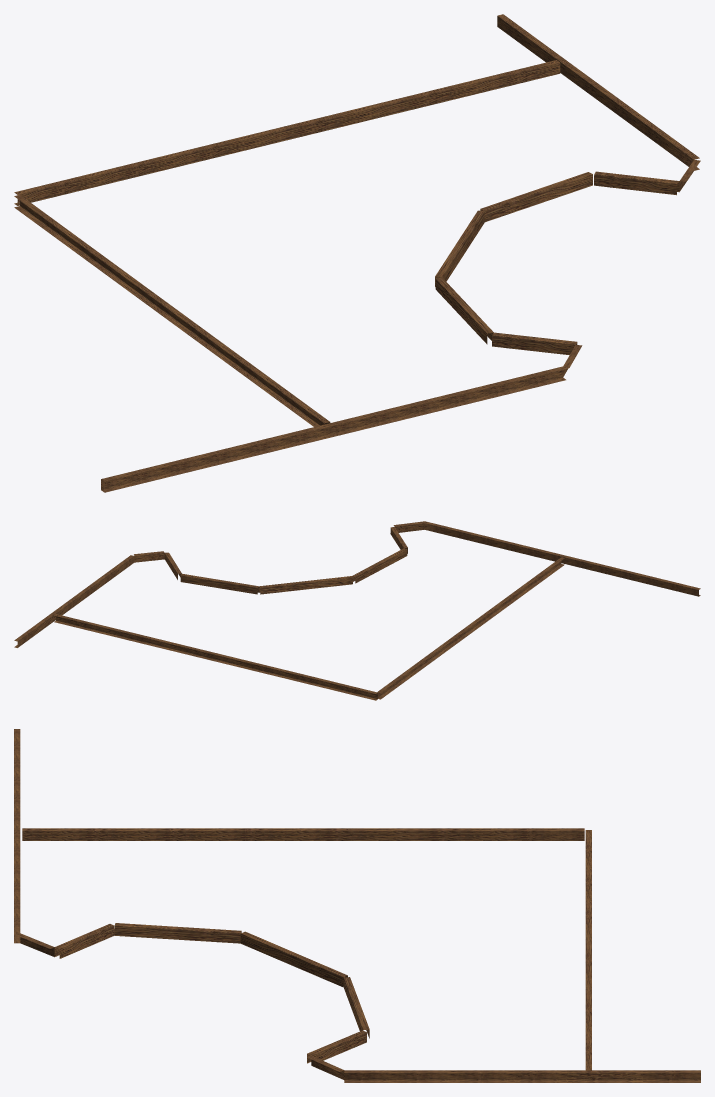
File: LAKETOWN_EXTERIOR_PS_LT_PLANE893.fbx
3 views of the same model, one above another, from view 1: azimuth 30°, elevation 25°; view 2: azimuth 150°, elevation 25°; view 3: azimuth 270°, elevation 25° (orthographic). The views are drawn at different scales.
Visible parts, largest first — view 1: LAKETOWN_EXTERIOR_PS_LT_PLANE893; view 2: LAKETOWN_EXTERIOR_PS_LT_PLANE893; view 3: LAKETOWN_EXTERIOR_PS_LT_PLANE893.
Boxes of the visible parts, x1,y1,x2,y2 form: LAKETOWN_EXTERIOR_PS_LT_PLANE893: (14,14,700,492); LAKETOWN_EXTERIOR_PS_LT_PLANE893: (14,521,700,700); LAKETOWN_EXTERIOR_PS_LT_PLANE893: (14,729,700,1082).
Size of the model in its own units: 363086 by 4988 by 306563.
Materials: 1 (1 with a texture image).
